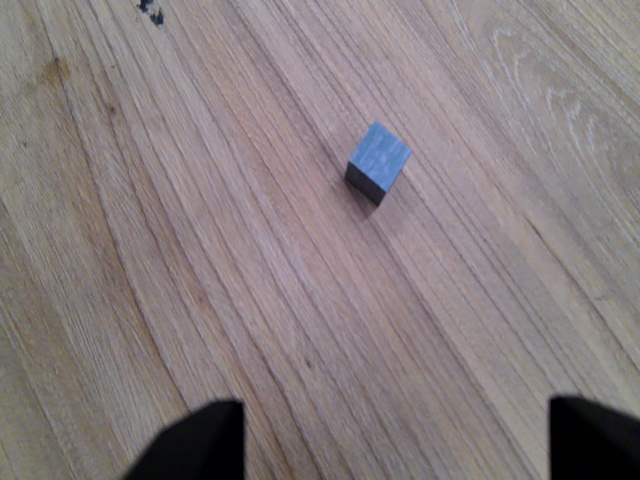stone: (337, 121, 416, 209)
